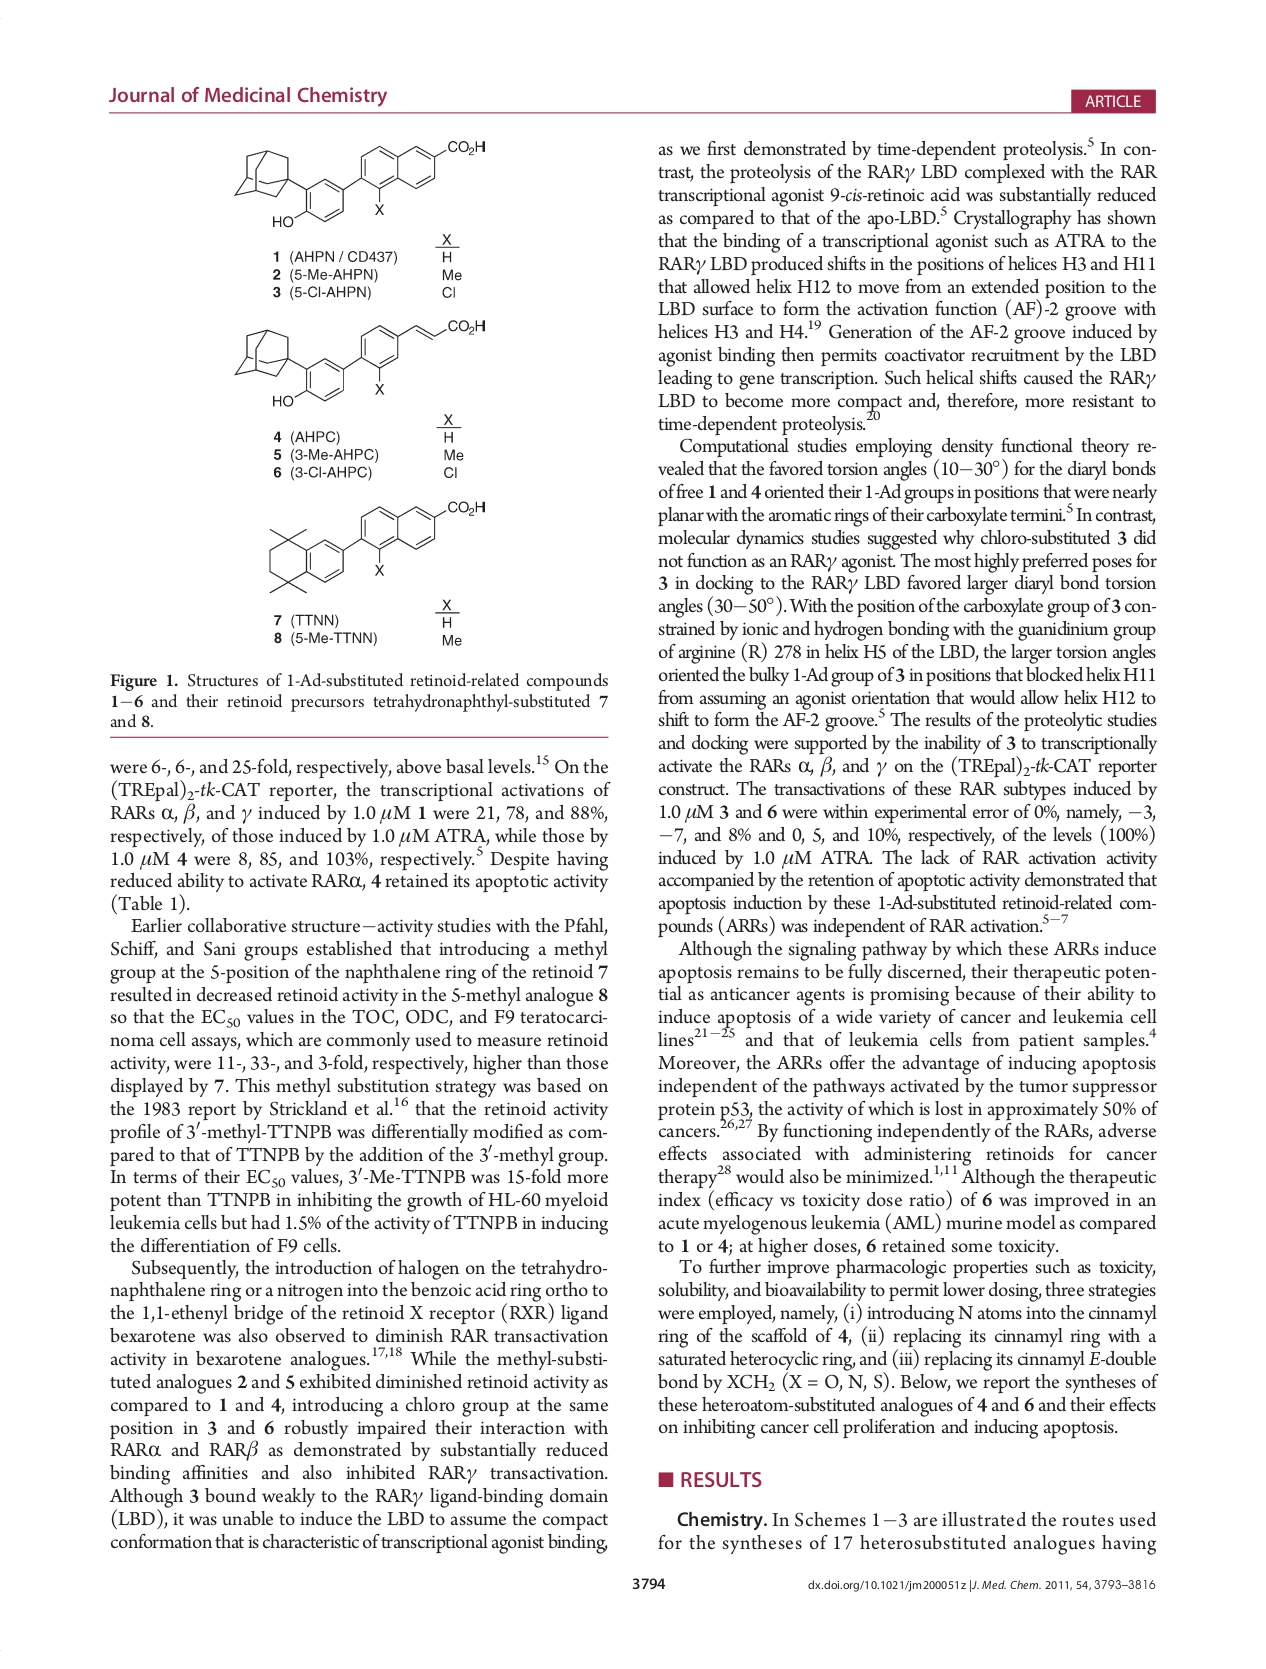exist_molecular: (229, 136, 489, 230), (227, 317, 489, 410), (265, 497, 487, 597)
